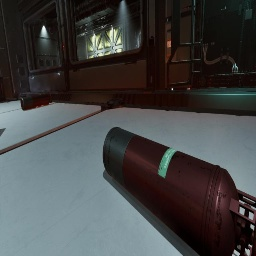FireAlarm ,: (62, 43, 65, 50)
NitrogenTank ,: (102, 127, 256, 256), (21, 94, 52, 110)
SafetySwitchPanel ,: (165, 23, 177, 63)
